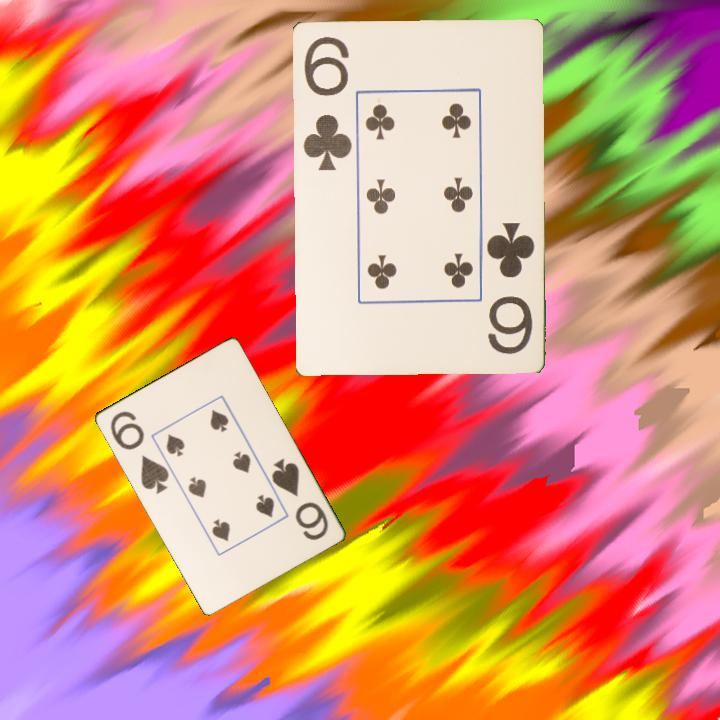6c: (299, 33, 354, 174), (482, 218, 537, 357)
6s: (106, 407, 171, 497), (268, 454, 331, 543)
